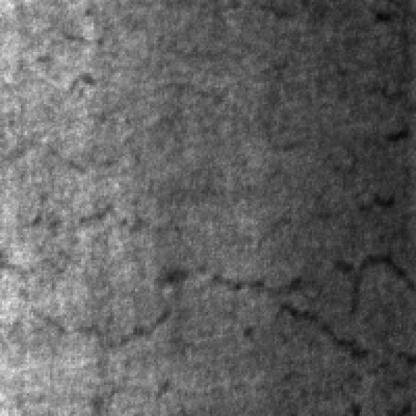crazing: (17, 217, 414, 345), (0, 68, 402, 154)
